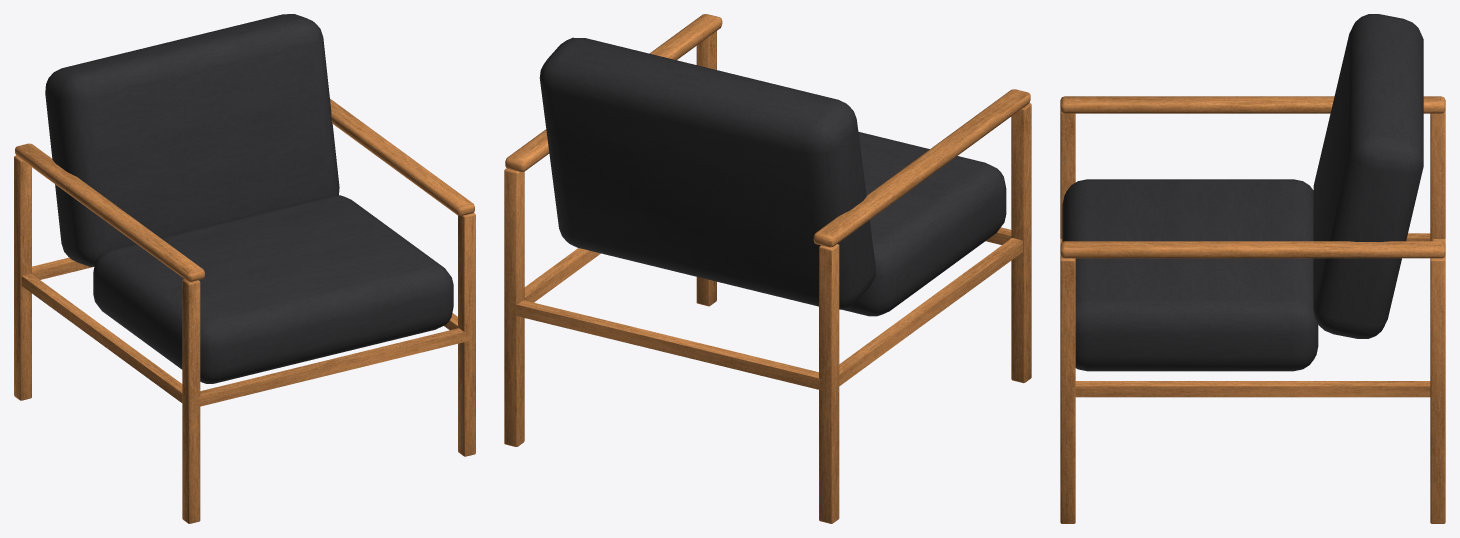
The model's file is lounge.modern-armchair.glb.
3 renders of one model, left to right at view 1: azimuth 30°, elevation 25°; view 2: azimuth 150°, elevation 25°; view 3: azimuth 270°, elevation 25°, orthographic. The views are drawn at different scales.
Visible parts, largest first — view 1: lounge.modern-armchair.001; view 2: lounge.modern-armchair.001; view 3: lounge.modern-armchair.001.
Part boxes in pixels (<box>): lounge.modern-armchair.001: <box>14,14,475,523</box>; lounge.modern-armchair.001: <box>504,14,1031,523</box>; lounge.modern-armchair.001: <box>1060,14,1445,523</box>.
Bounding box in the file's own units: 0.72 × 0.8099 × 0.76.
Materials: 2 (2 with a texture image).
